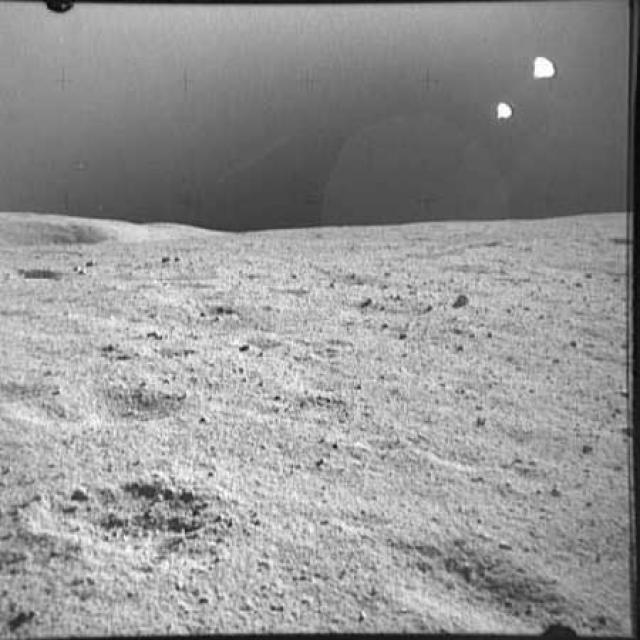crater: (22, 464, 256, 565), (369, 520, 575, 630), (6, 375, 197, 429), (0, 262, 68, 287)
rock: (94, 337, 134, 365), (448, 287, 488, 312), (226, 338, 258, 357), (143, 325, 169, 342), (360, 294, 382, 312)
